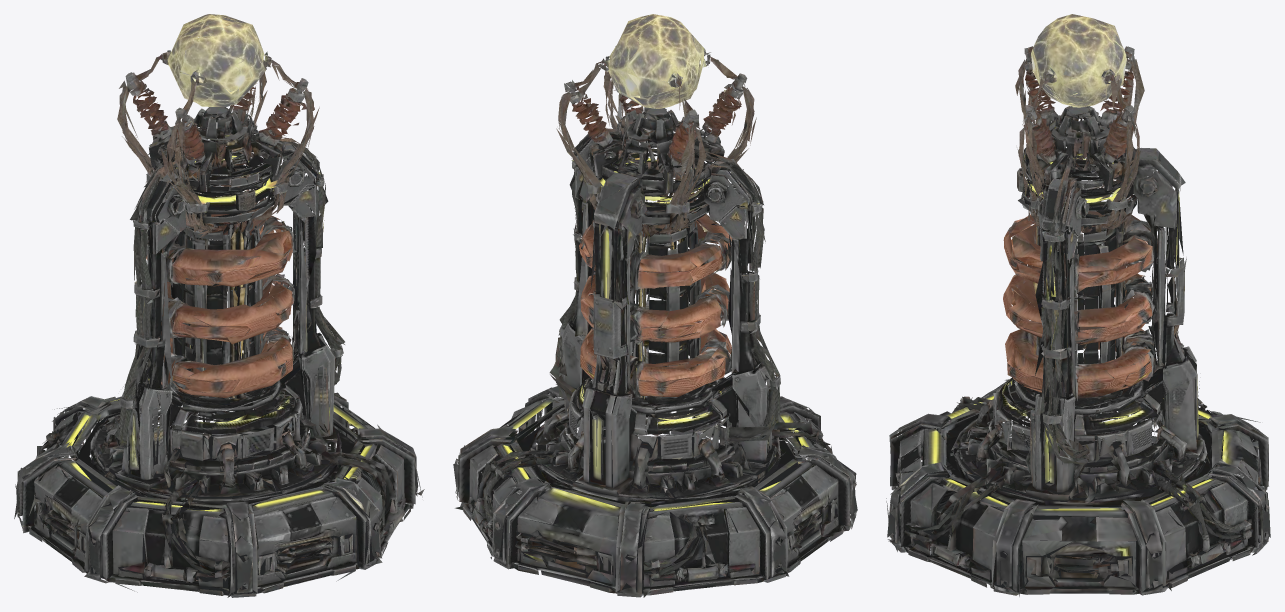
The model's file is tower_tesla.glb.
The picture shows the model from 3 angles, left to right: view 1: azimuth 30°, elevation 25°; view 2: azimuth 150°, elevation 25°; view 3: azimuth 270°, elevation 25°; orthographic projection.
Visible parts, largest first — view 1: body; view 2: body; view 3: body.
Part boxes in pixels (bbox=[...]): body: bbox=[14, 14, 424, 597]; body: bbox=[453, 14, 857, 597]; body: bbox=[886, 14, 1270, 596].
Size of the model in its own units: 0.8211 by 1.17 by 0.8091.
1 material, 1 textured.
